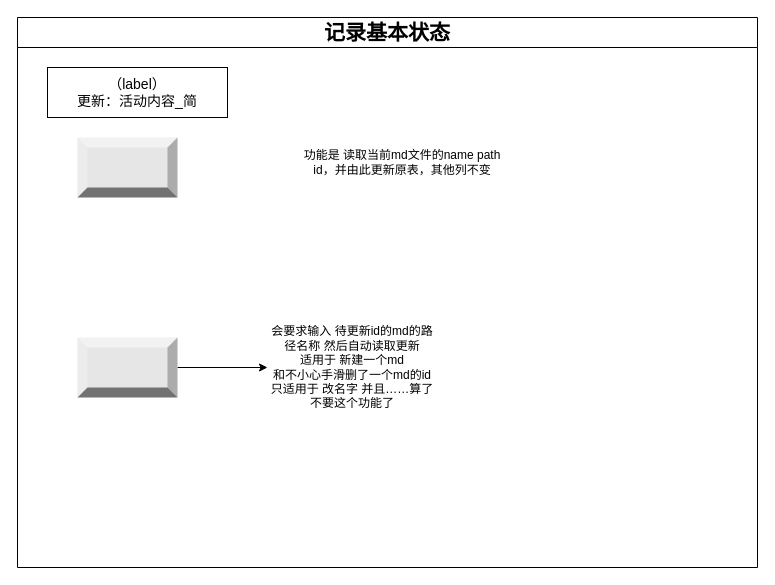
Some shapes in this 775 by 585 pixel diagram are drawn without their labels. Each missing label, with the centre of its shape:
"update other table" goes at point 127,367.
"yes" goes at point 127,167.
